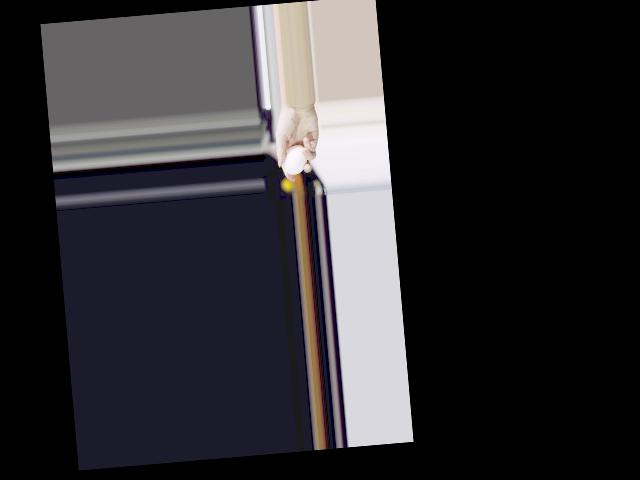egg: (281, 144, 308, 176)
